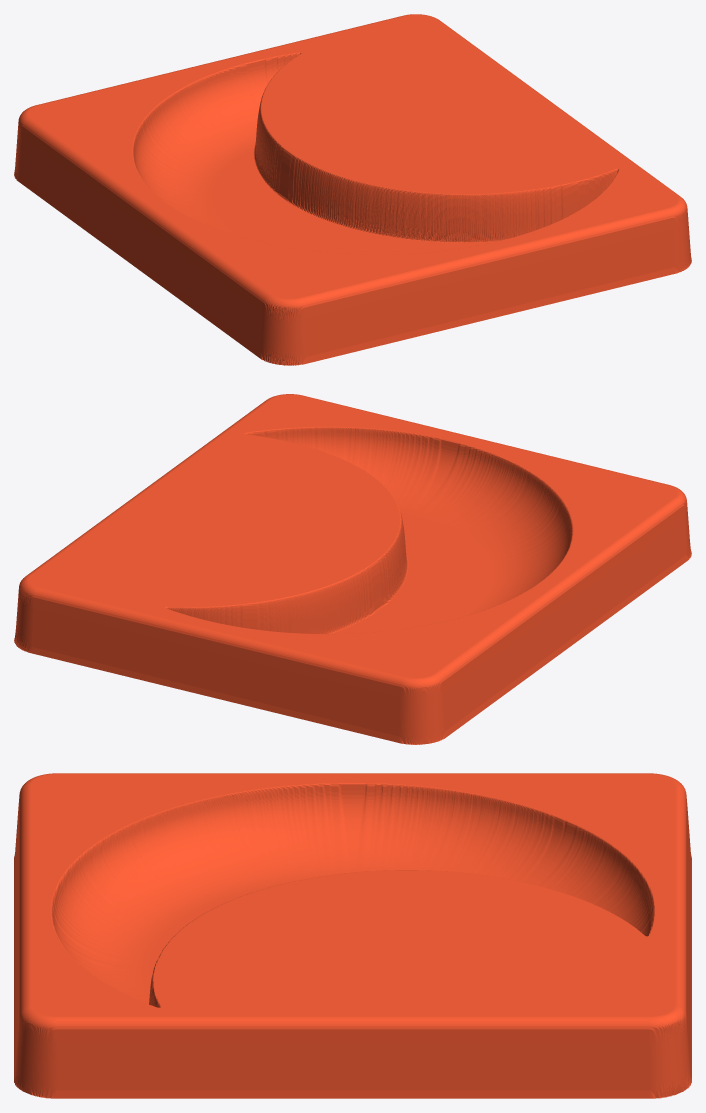
File: mold.glb
The picture shows the model from 3 angles, top to bottom: view 1: azimuth 30°, elevation 25°; view 2: azimuth 150°, elevation 25°; view 3: azimuth 270°, elevation 25°; orthographic projection. The views are drawn at different scales.
Parts seen in each view (by area): view 1: geometry_0; view 2: geometry_0; view 3: geometry_0.
Boxes of the visible parts, x1,y1,x2,y2 form: geometry_0: (14, 14, 691, 365); geometry_0: (14, 394, 691, 744); geometry_0: (14, 773, 691, 1098).
Bounding box in the file's own units: 0.1284 × 0.0175 × 0.1435.
